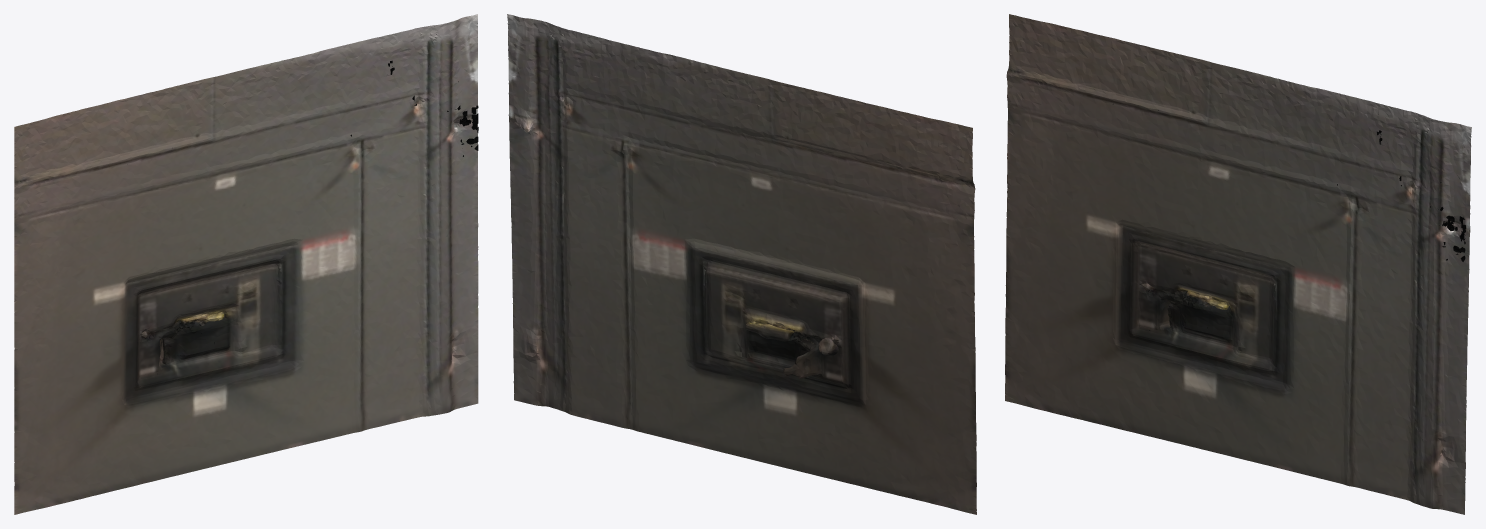
The model's file is ER_Big_Switch.obj.
The picture shows the model from 3 angles, left to right: view 1: azimuth 30°, elevation 25°; view 2: azimuth 150°, elevation 25°; view 3: azimuth 330°, elevation 25°; orthographic projection.
Parts seen in each view (by area): view 1: ElectricRoom_BigSwitch; view 2: ElectricRoom_BigSwitch; view 3: ElectricRoom_BigSwitch.
Boxes of the visible parts, left/top/right/bottom form: ElectricRoom_BigSwitch: left=14, top=14, right=478, bottom=514; ElectricRoom_BigSwitch: left=507, top=14, right=976, bottom=514; ElectricRoom_BigSwitch: left=1005, top=14, right=1471, bottom=514.
Bounding box in the file's own units: 1.12 × 0.8897 × 0.115.
1 material, 1 textured.
